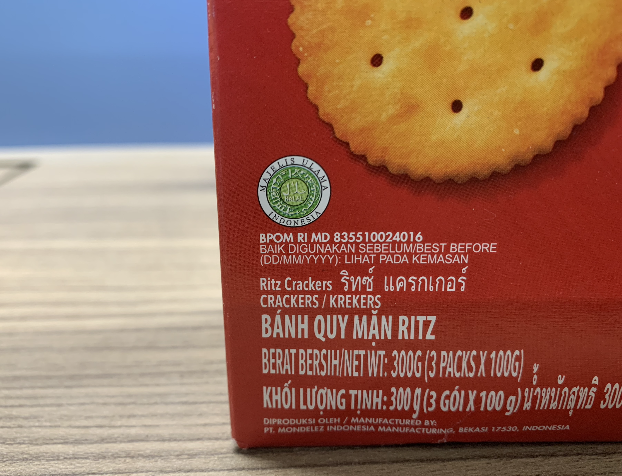halal: (267, 158, 320, 218)
